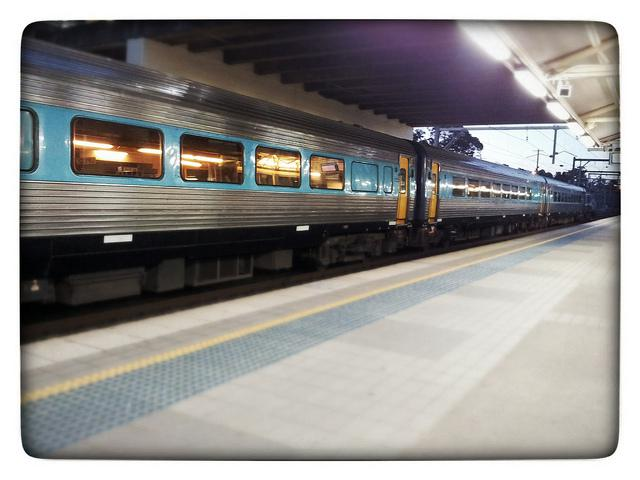Train: (21, 37, 601, 315)
